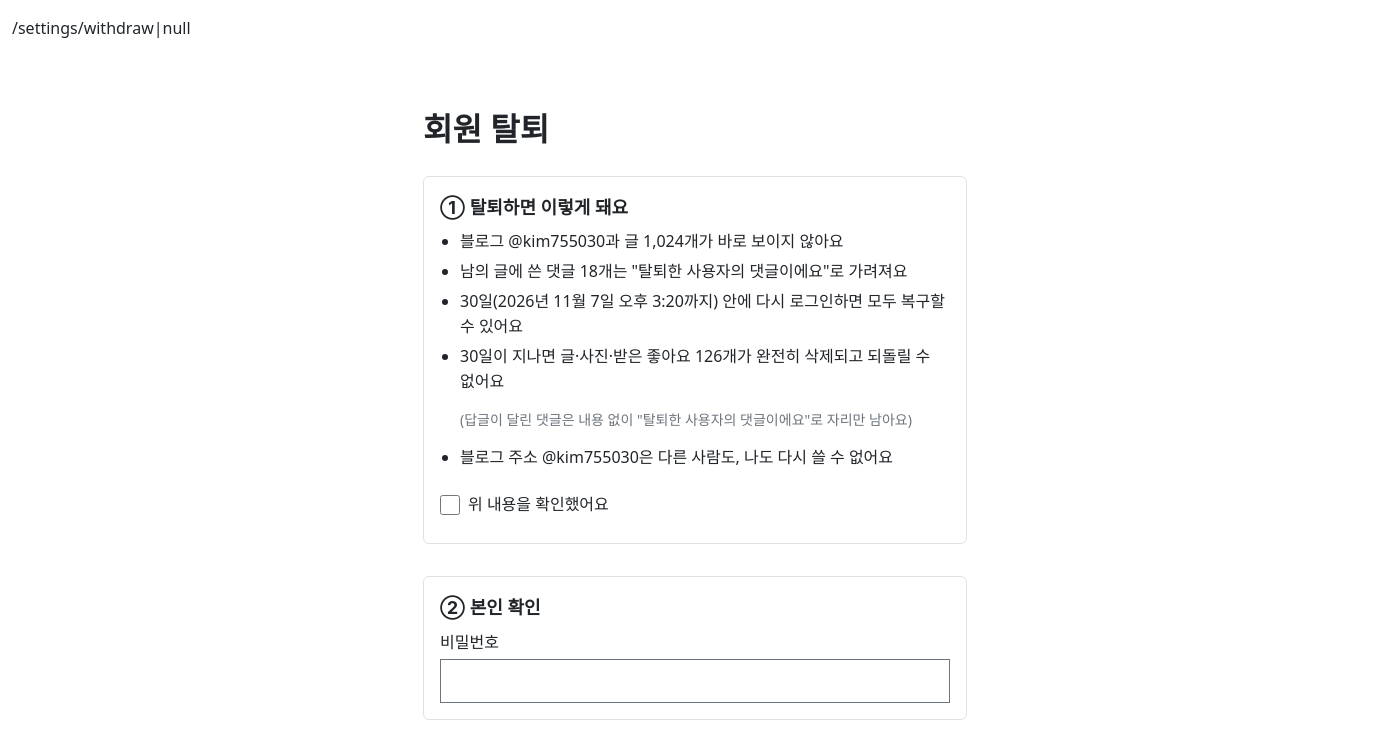
Test: WithdrawPage (015 T019, FR-003·FR-007) › 체크와 본인 확인을 모두 채워야 [탈퇴하기]가 켜지고, 처음 포커스는 버튼이 아니다
Click the checkbox labelled "위 내용을 확인했어요" at [450, 505], box [440,495,460,515]
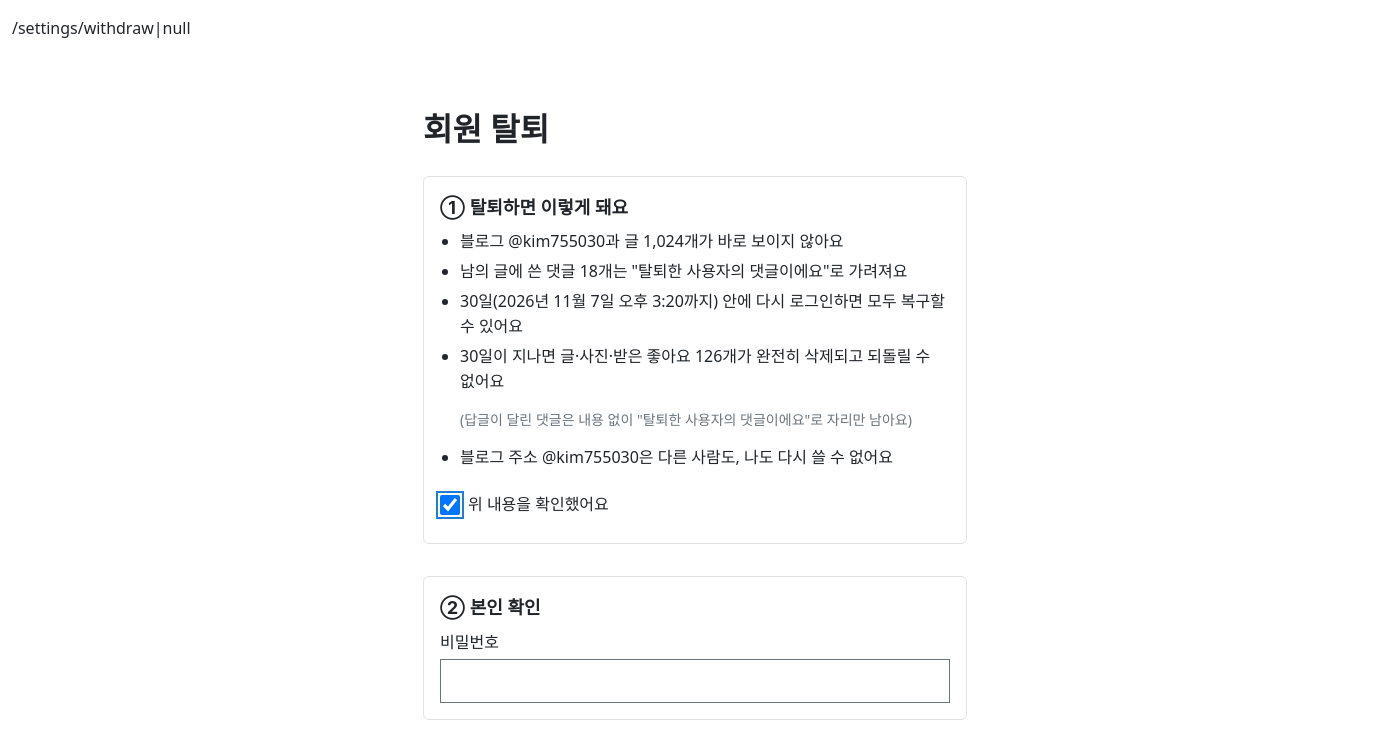
Type "x" into the password field labelled "비밀번호" at [695, 681], box [440,659,950,703]
(page scrolled)
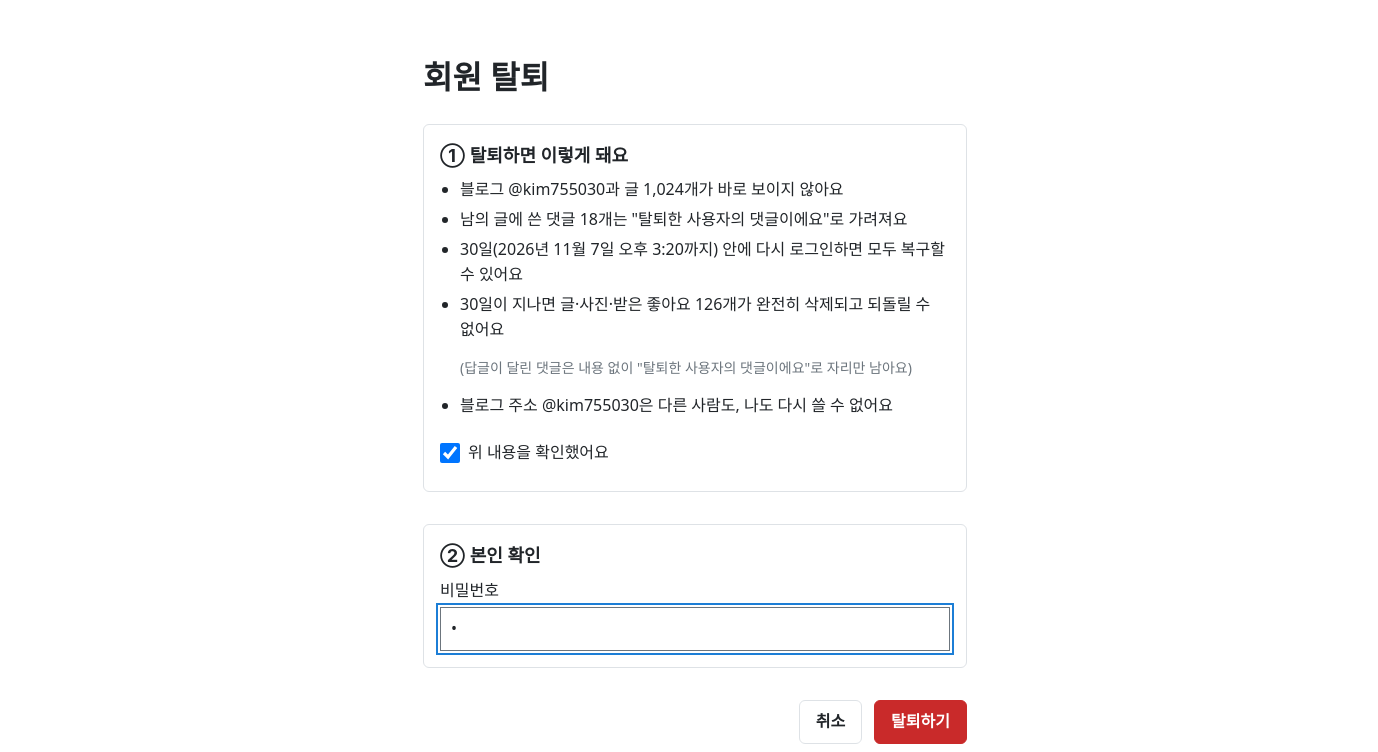
Check: the button "탈퇴하기" is enabled, box [874,700,967,744]
